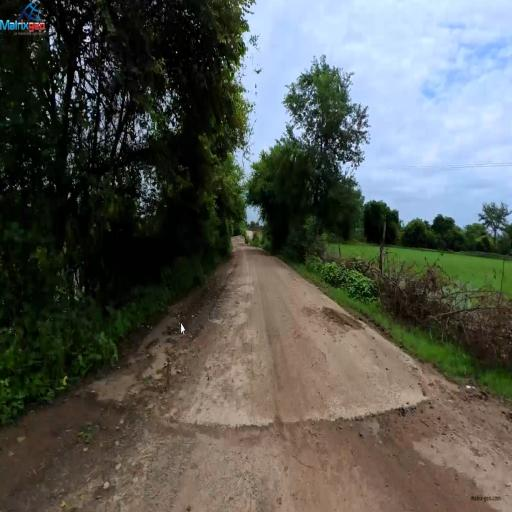longitudinal_crack: (174, 407, 403, 444)
ravelling: (237, 277, 253, 340)
